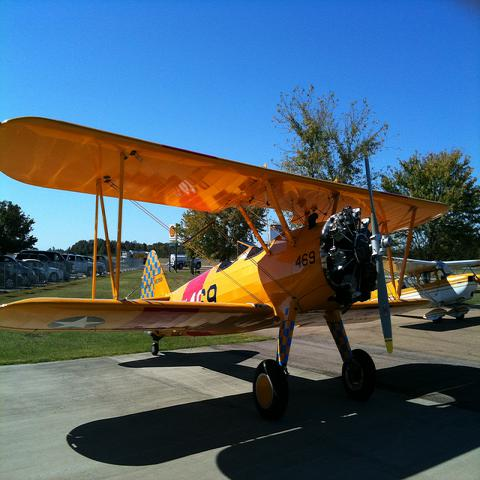car: (21, 250, 76, 281), (15, 252, 67, 276), (2, 254, 40, 285), (22, 260, 66, 282), (62, 254, 94, 276), (0, 265, 28, 290), (17, 261, 46, 281), (86, 256, 106, 276), (96, 255, 110, 272)
truck: (168, 254, 202, 270)
